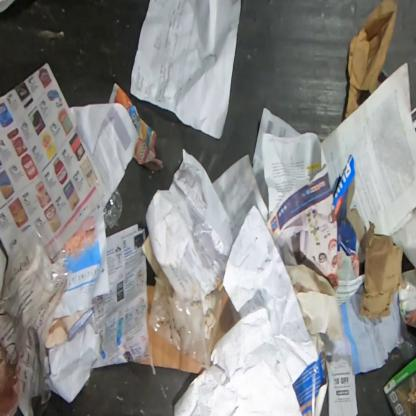cardboard: (344, 0, 398, 121), (358, 222, 407, 322), (140, 323, 204, 373), (383, 358, 415, 415), (146, 286, 154, 320)
rigid_plastic: (103, 189, 122, 229)
soft_plastic: (1, 218, 70, 352), (148, 266, 211, 371)
